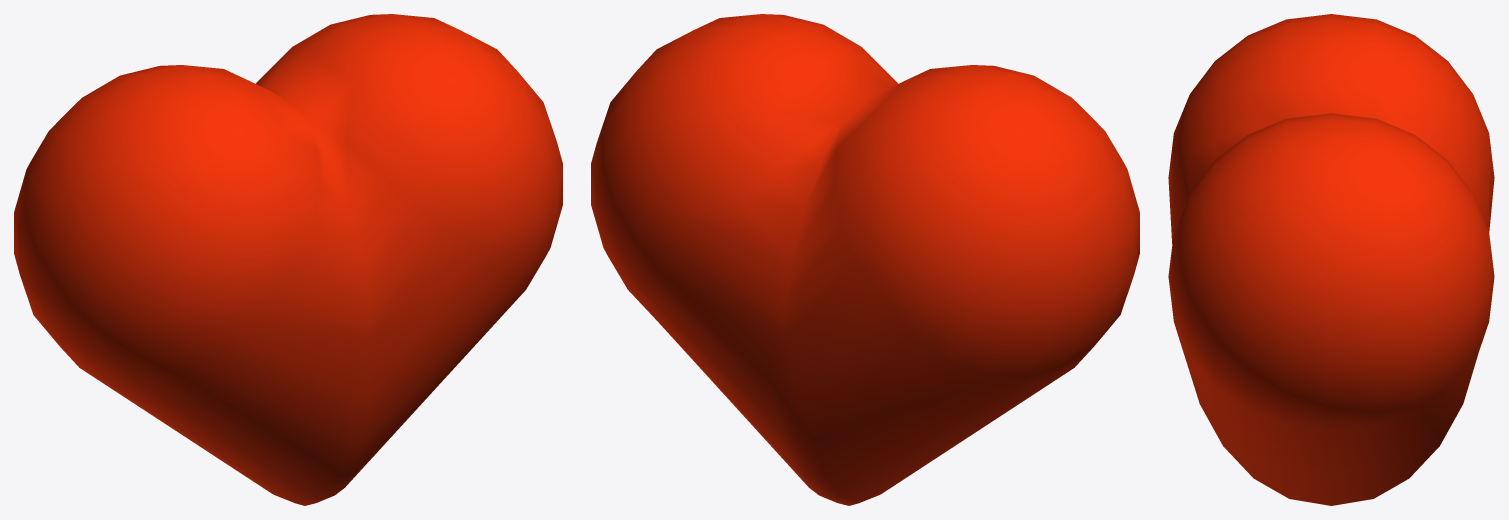
Rendered from Collectible_Heart_01.fbx.
The picture shows the model from 3 angles, left to right: view 1: azimuth 30°, elevation 25°; view 2: azimuth 150°, elevation 25°; view 3: azimuth 270°, elevation 25°; orthographic projection. The views are drawn at different scales.
Visible parts, largest first — view 1: Collectible_Heart_01; view 2: Collectible_Heart_01; view 3: Collectible_Heart_01.
Boxes of the visible parts, bbox=[...] form: Collectible_Heart_01: bbox=[14, 14, 562, 505]; Collectible_Heart_01: bbox=[591, 14, 1139, 505]; Collectible_Heart_01: bbox=[1168, 14, 1494, 505].
Size of the model in its own units: 98.55 by 82.66 by 57.77.
